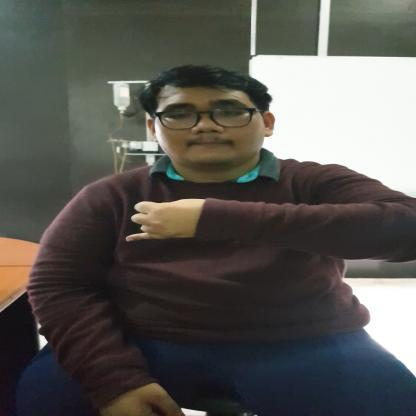J: (123, 197, 208, 244)
